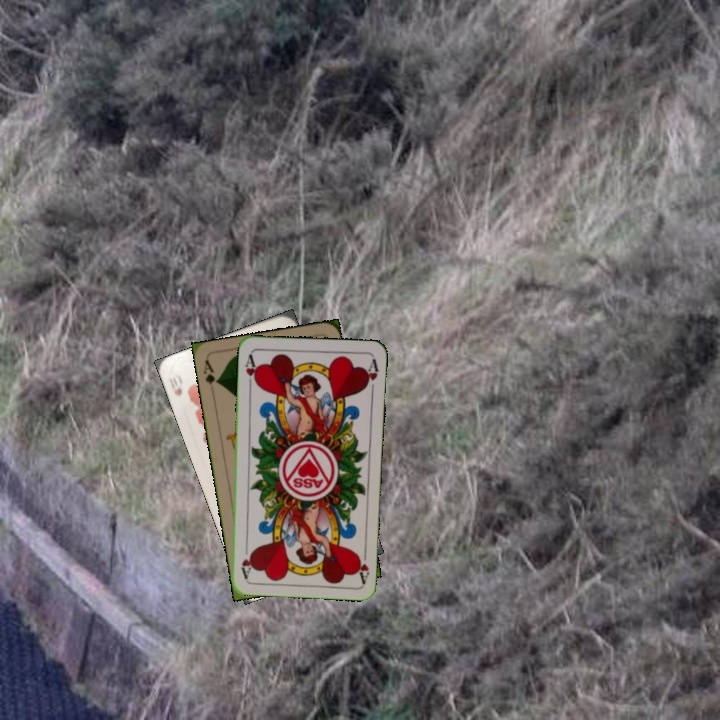GA: (199, 356, 221, 388)
H10: (170, 370, 185, 398)
HA: (241, 350, 261, 390), (352, 544, 372, 584)
